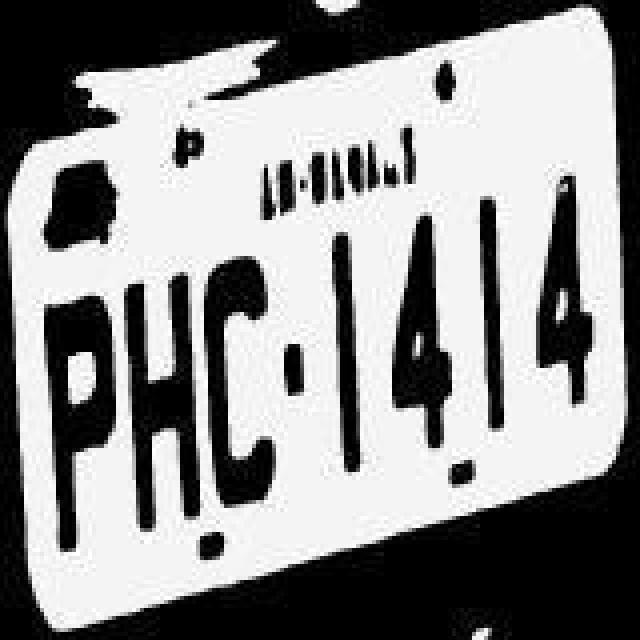1: (320, 226, 368, 494), (466, 176, 510, 448)
4: (526, 162, 602, 446), (386, 200, 462, 456)
C: (202, 242, 286, 510)
H: (122, 254, 198, 530)
P: (36, 276, 116, 556)
